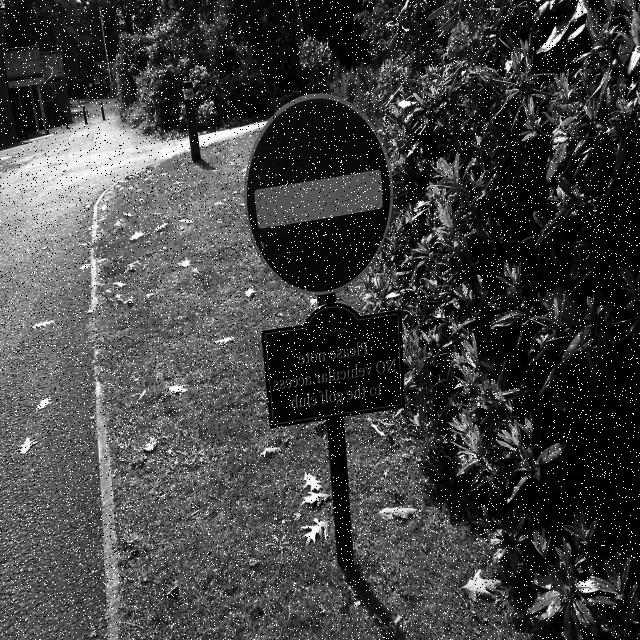no entry: (247, 95, 390, 293)
